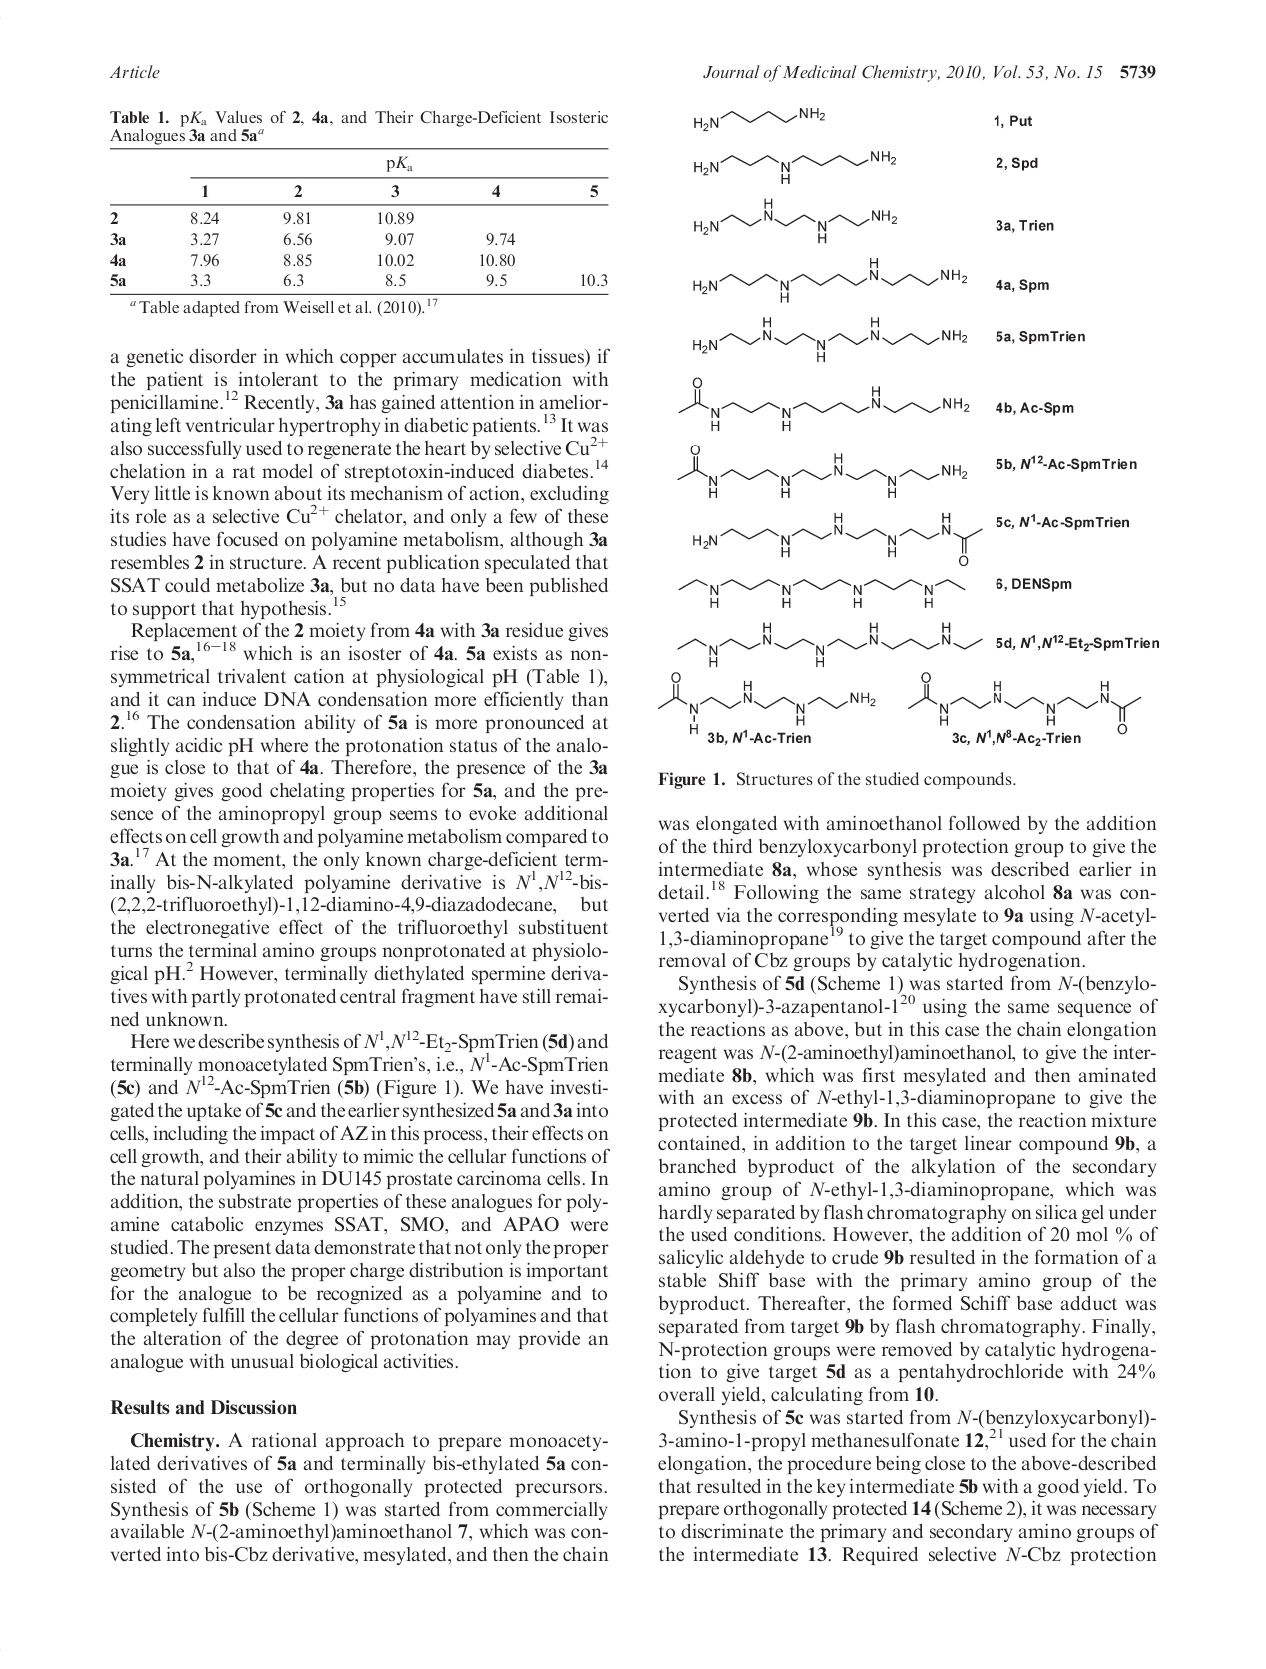exist_molecular: (658, 677, 1144, 737), (678, 440, 969, 500), (677, 620, 985, 676), (692, 511, 987, 567), (678, 376, 979, 430), (690, 311, 969, 359), (692, 255, 971, 299), (680, 576, 968, 609), (693, 199, 898, 245), (692, 148, 899, 185), (692, 105, 830, 138)
